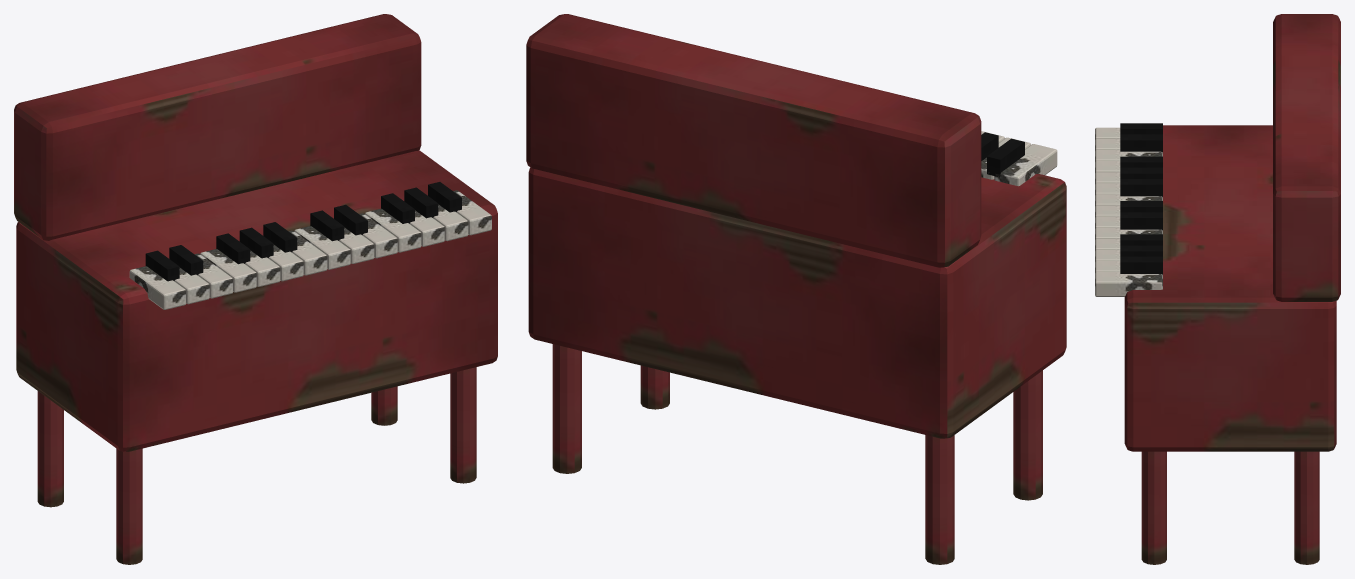
File: MU12_ToyPiano.glb
3 views of the same model, side by side, from view 1: azimuth 30°, elevation 25°; view 2: azimuth 150°, elevation 25°; view 3: azimuth 270°, elevation 25° (orthographic). The views are drawn at different scales.
Parts seen in each view (by area): view 1: MU12_ToyPiano; view 2: MU12_ToyPiano; view 3: MU12_ToyPiano.
Boxes of the visible parts, <box> form: MU12_ToyPiano: <box>14,14,497,564</box>; MU12_ToyPiano: <box>526,14,1066,564</box>; MU12_ToyPiano: <box>1095,14,1340,564</box>.
Bounding box in the file's own units: 0.5 × 0.495 × 0.29.
Materials: 3 (3 with a texture image).
